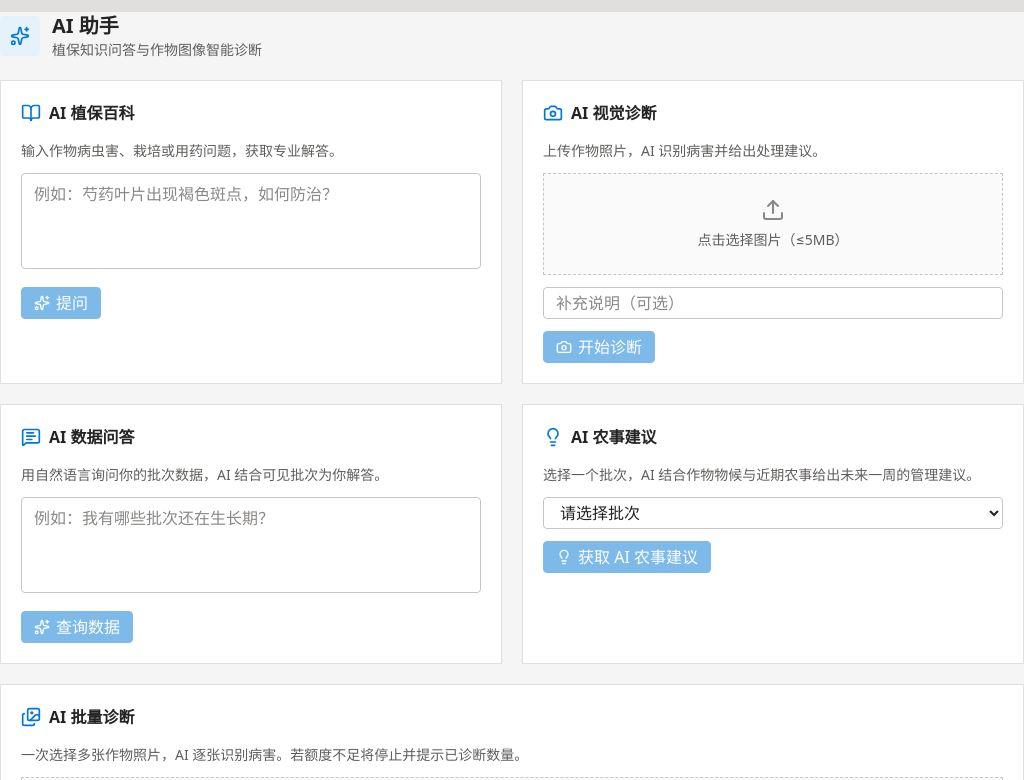
Test: AiAssistant Fluent production AI surface › loads real batches and requests advice for the selected batch
Step 1. Select "B-001 · 芍药" in the dropdown named "选择建议批次" → [773, 513], box [543,497,1003,529]
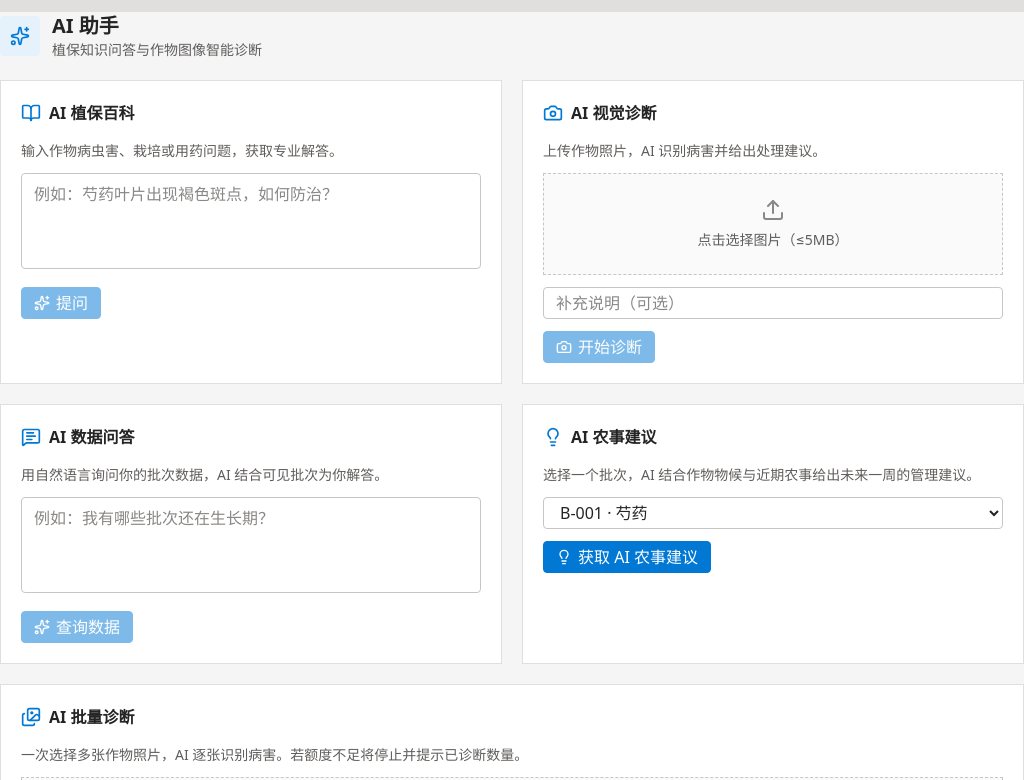
Step 2. Click the button "获取 AI 农事建议" → [627, 557], box [543,541,711,573]
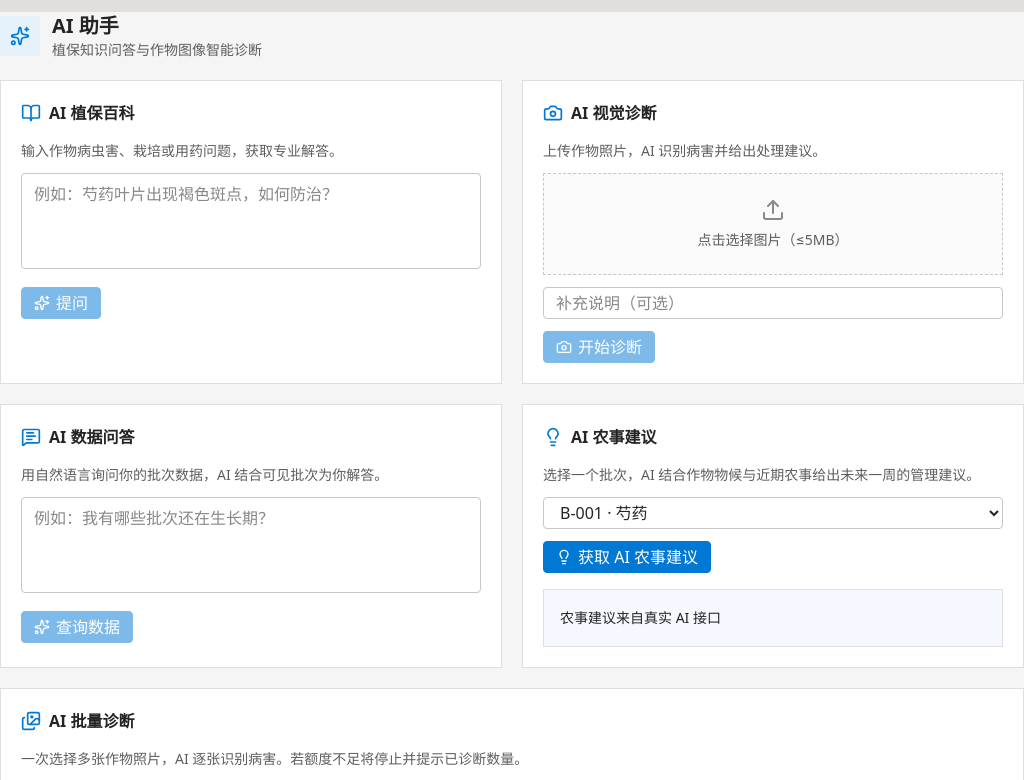
Check: the text "农事建议来自真实 AI 接口" is shown, box [543,589,1003,647]
